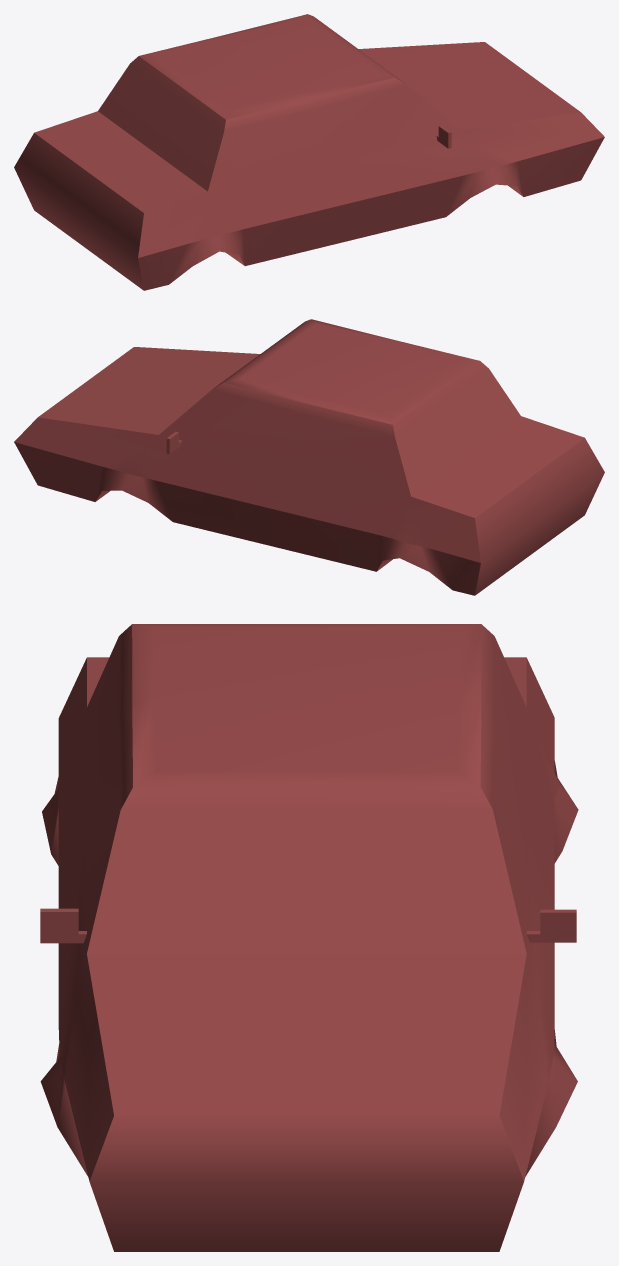
The model's file is TR_PROP_Car.fbx.
3 views of the same model, one above another, from view 1: azimuth 30°, elevation 25°; view 2: azimuth 150°, elevation 25°; view 3: azimuth 270°, elevation 25° (orthographic). The views are drawn at different scales.
Parts seen in each view (by area): view 1: Car; view 2: Car; view 3: Car, Mirror1, Mirror.
Part boxes in pixels (x1=…): Car: x1=14, y1=14, x2=604, y2=290; Car: x1=14, y1=319, x2=604, y2=595; Car: x1=40, y1=624, x2=578, y2=1251; Mirror1: x1=40, y1=908, x2=86, y2=943; Mirror: x1=526, y1=909, x2=576, y2=942.
Bounding box in the file's own units: 565 × 166 × 277.
